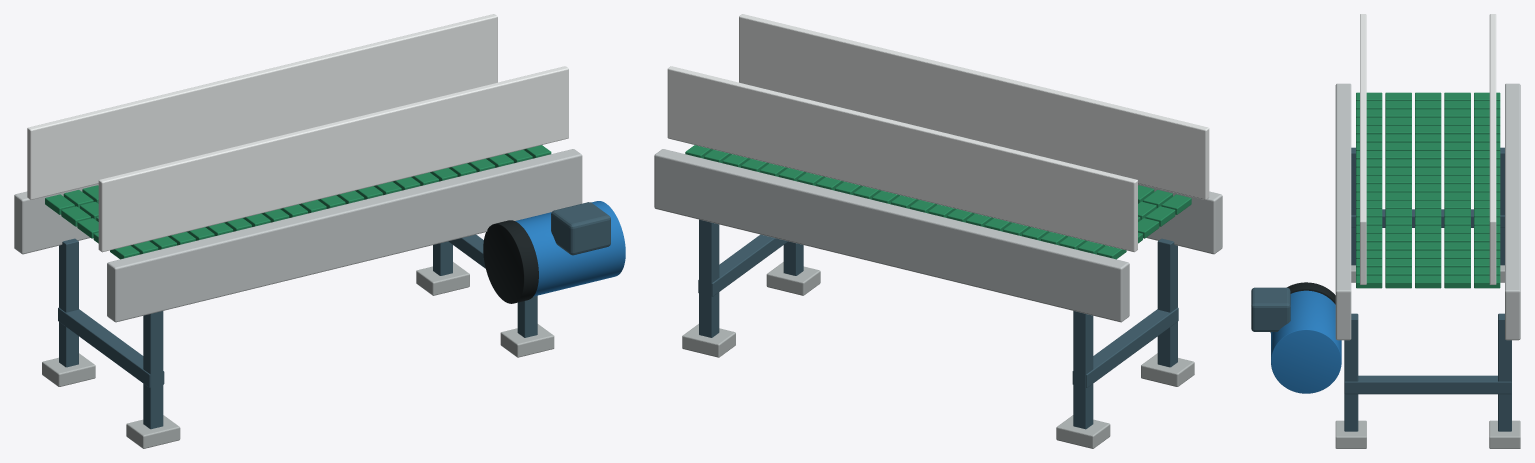
File: modular_plastic_belt_conveyor.glb
3 views of the same model, side by side, from view 1: azimuth 30°, elevation 25°; view 2: azimuth 150°, elevation 25°; view 3: azimuth 270°, elevation 25° (orthographic). The views are drawn at different scales.
Visible parts, largest first — view 1: GUIDE_-0.33, GUIDE_0.33, SIDE_-0.43, BELT_DRIVE_MOTOR, BELT_DRIVE_FAN, SIDE_0.43, BELT_DRIVE_TERMINAL, CROSS_-1.0, LEG_-1.0_-0.391, LEG_-1.0_0.391, FOOT_1.0_-0.391, FOOT_-1.0_-0.391 (+5 smaller); view 2: GUIDE_0.33, GUIDE_-0.33, SIDE_0.43, SIDE_-0.43, CROSS_-1.0, LEG_1.0_0.391, LEG_-1.0_0.391, LEG_-1.0_-0.391, CROSS_1.0, FOOT_-1.0_0.391, FOOT_1.0_-0.391, FOOT_1.0_0.391 (+2 smaller); view 3: BELT_DRIVE_MOTOR, SIDE_-0.43, SIDE_0.43, CROSS_1.0, GUIDE_0.33, GUIDE_-0.33, BELT_DRIVE_TERMINAL, LEG_1.0_-0.391, LEG_1.0_0.391, FOOT_1.0_-0.391, FOOT_1.0_0.391, LEG_-1.0_0.391 (+8 smaller).
Boxes of the visible parts, box(x1,y1,x2,y2) form: GUIDE_-0.33: box(98, 66, 568, 252); GUIDE_0.33: box(27, 14, 497, 199); SIDE_-0.43: box(107, 149, 582, 322); BELT_DRIVE_MOTOR: box(515, 201, 625, 296); BELT_DRIVE_FAN: box(483, 220, 538, 303); SIDE_0.43: box(14, 183, 98, 254); BELT_DRIVE_TERMINAL: box(551, 202, 610, 255); CROSS_-1.0: box(58, 307, 164, 387); LEG_-1.0_-0.391: box(143, 311, 163, 429); LEG_-1.0_0.391: box(59, 238, 78, 367); FOOT_1.0_-0.391: box(500, 324, 554, 357); FOOT_-1.0_-0.391: box(126, 415, 180, 448); GUIDE_0.33: box(667, 66, 1137, 252); GUIDE_-0.33: box(739, 14, 1209, 199); SIDE_0.43: box(654, 149, 1129, 322); SIDE_-0.43: box(1138, 183, 1222, 254); CROSS_-1.0: box(1072, 307, 1178, 387); LEG_1.0_0.391: box(699, 219, 719, 337); LEG_-1.0_0.391: box(1073, 311, 1093, 429); LEG_-1.0_-0.391: box(1157, 238, 1177, 367); CROSS_1.0: box(698, 234, 787, 296); FOOT_-1.0_0.391: box(1056, 415, 1110, 448); FOOT_1.0_-0.391: box(766, 262, 820, 295); FOOT_1.0_0.391: box(682, 324, 735, 357); BELT_DRIVE_MOTOR: box(1271, 290, 1341, 393); SIDE_-0.43: box(1335, 83, 1351, 340); SIDE_0.43: box(1505, 83, 1520, 340); CROSS_1.0: box(1344, 375, 1511, 394); GUIDE_0.33: box(1489, 14, 1496, 284); GUIDE_-0.33: box(1360, 14, 1366, 284); BELT_DRIVE_TERMINAL: box(1251, 287, 1290, 331); LEG_1.0_-0.391: box(1344, 313, 1358, 431); LEG_1.0_0.391: box(1498, 313, 1511, 431); FOOT_1.0_-0.391: box(1335, 420, 1366, 448); FOOT_1.0_0.391: box(1489, 420, 1520, 448); LEG_-1.0_0.391: box(1500, 147, 1504, 265).
Size of the model in its own units: 2.54 by 1.35 by 1.37.
